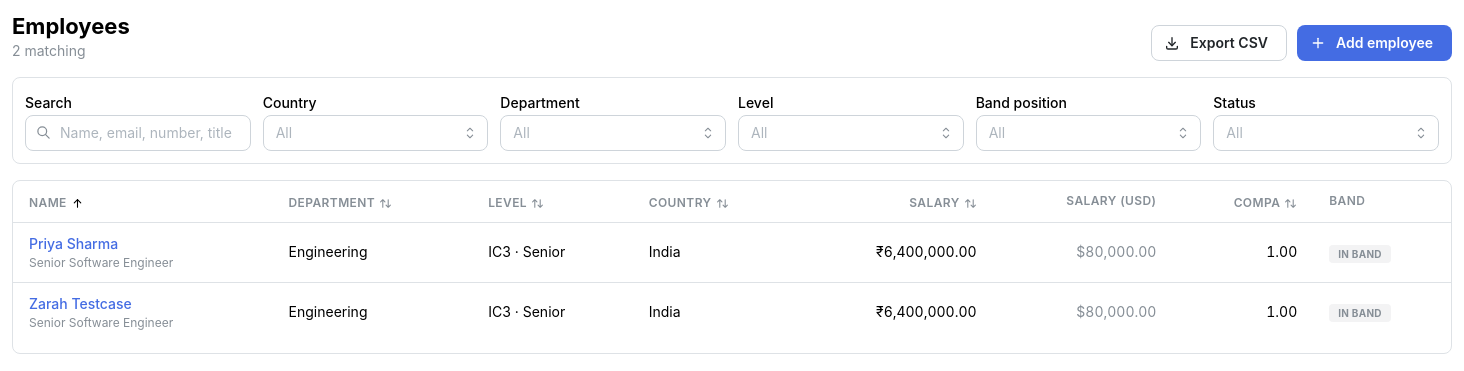
Scenario: typing in the search box › sends the term to the API and narrows the list
The image size is (1464, 371).
Expected: the link "Priya Sharma" is shown, [29,235,118,252]
Type "Zarah" into the field labelled "Search" at (138, 133), box [25,115,251,151]
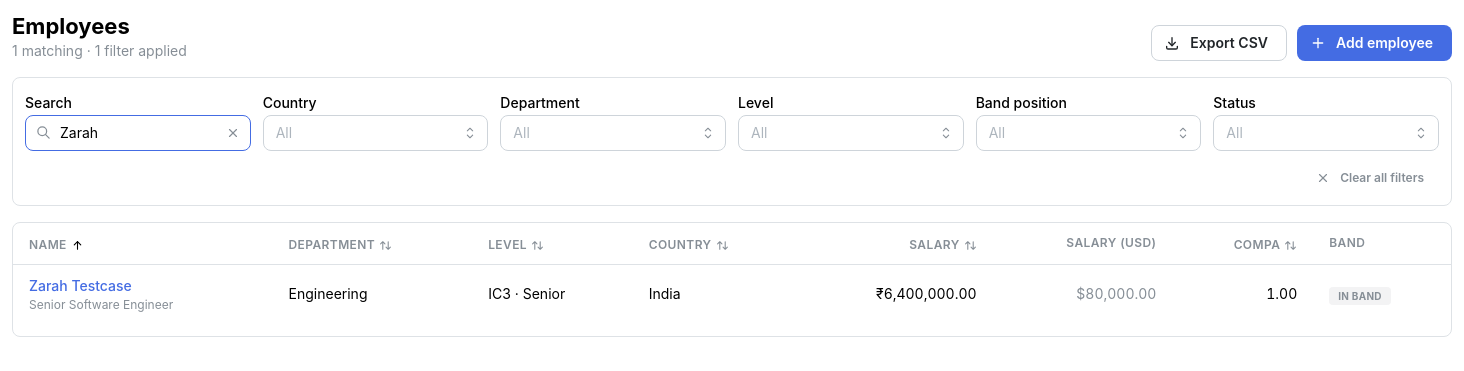
Expected: the link "Zarah Testcase" is shown, [29,277,132,294]
Now the link "Priya Sharma" is gone
